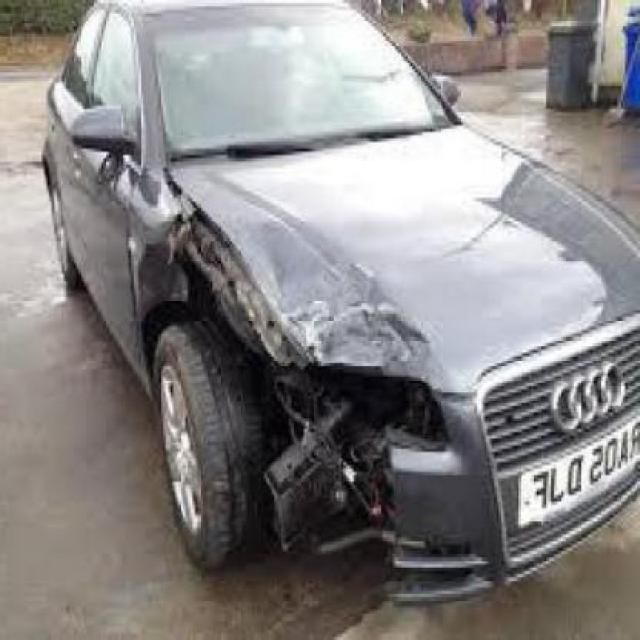damage: (122, 184, 447, 607)
